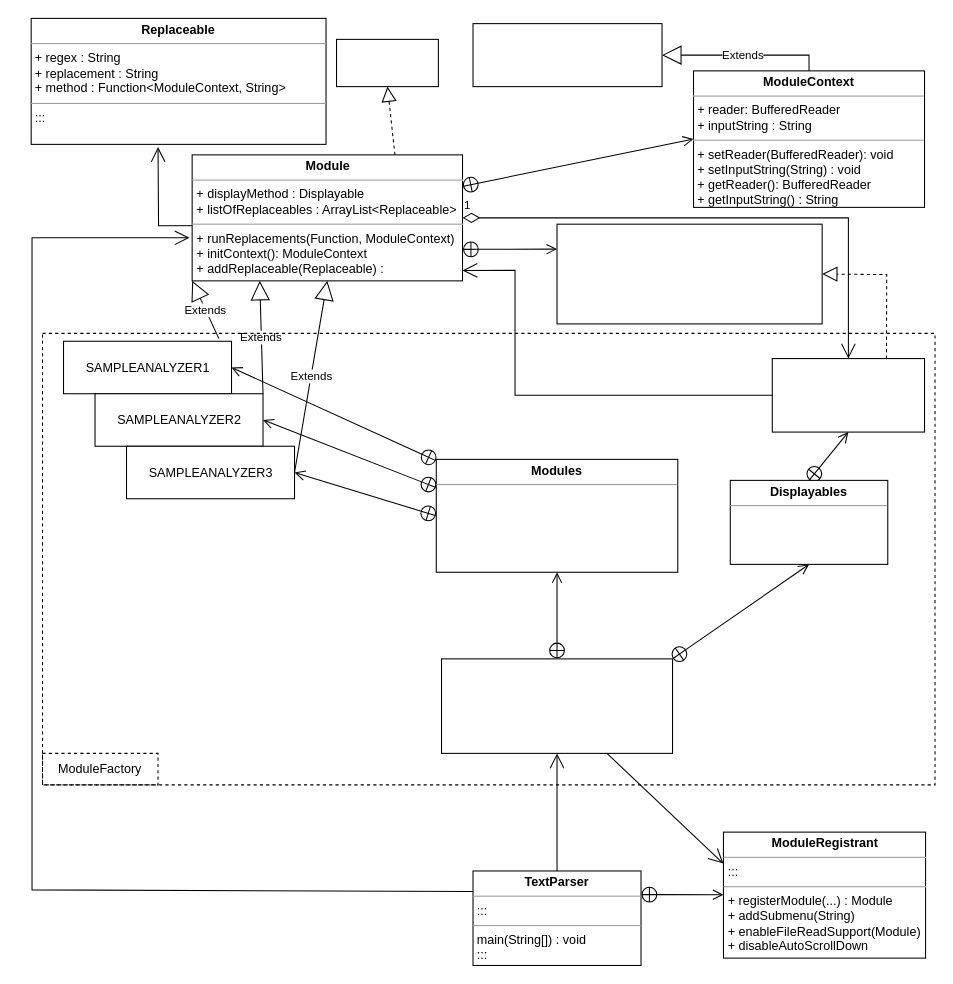
This 953x984 diagram has some shape labels left out. The shapes that lost their labels are listed below. From the top down, each one's centre as x and y in pixels, then its label:
At (386,62): "«interface» Cloneable".
At (567,55): "Hashtable<String,Object>".
At (689,273): "<<Interface>> Displayable + display(Module, TextParser): ModuleContext".
At (848,395): "AMPDISPLAYABLE".
At (556,705): "ModuleFactory + register(ModuleRegistrant) : void".
